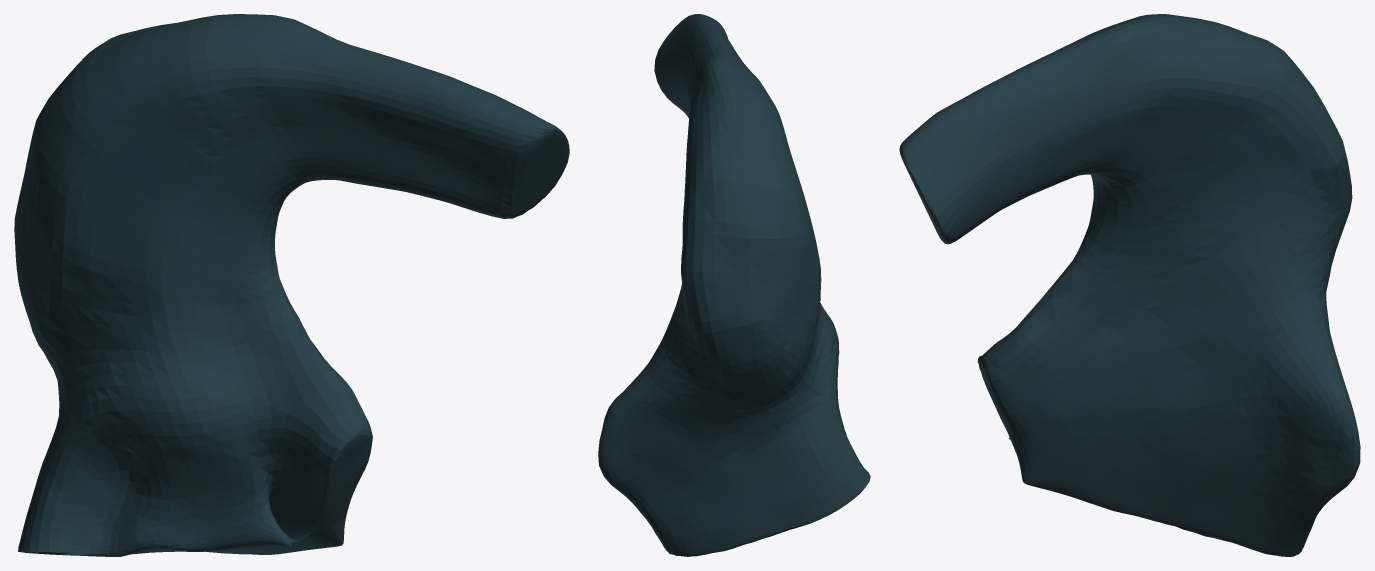
File: leftPelvis2Model.obj
3 renders of one model, left to right at view 1: azimuth 30°, elevation 25°; view 2: azimuth 150°, elevation 25°; view 3: azimuth 270°, elevation 25°, orthographic. The views are drawn at different scales.
Parts seen in each view (by area): view 1: grp1; view 2: grp1; view 3: grp1.
Part boxes in pixels (box(x1,y1,x2,y2)): grp1: box(14, 14, 569, 556); grp1: box(598, 14, 870, 556); grp1: box(899, 14, 1360, 556).
Size of the model in its own units: 65.1 by 88.23 by 68.22.
